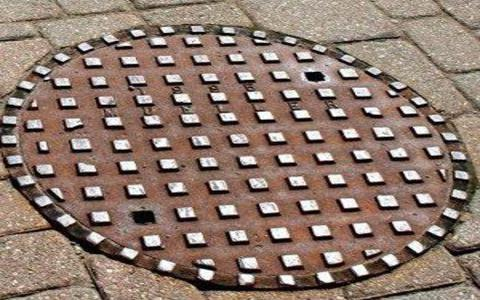proper manhole: (1, 5, 471, 292)
